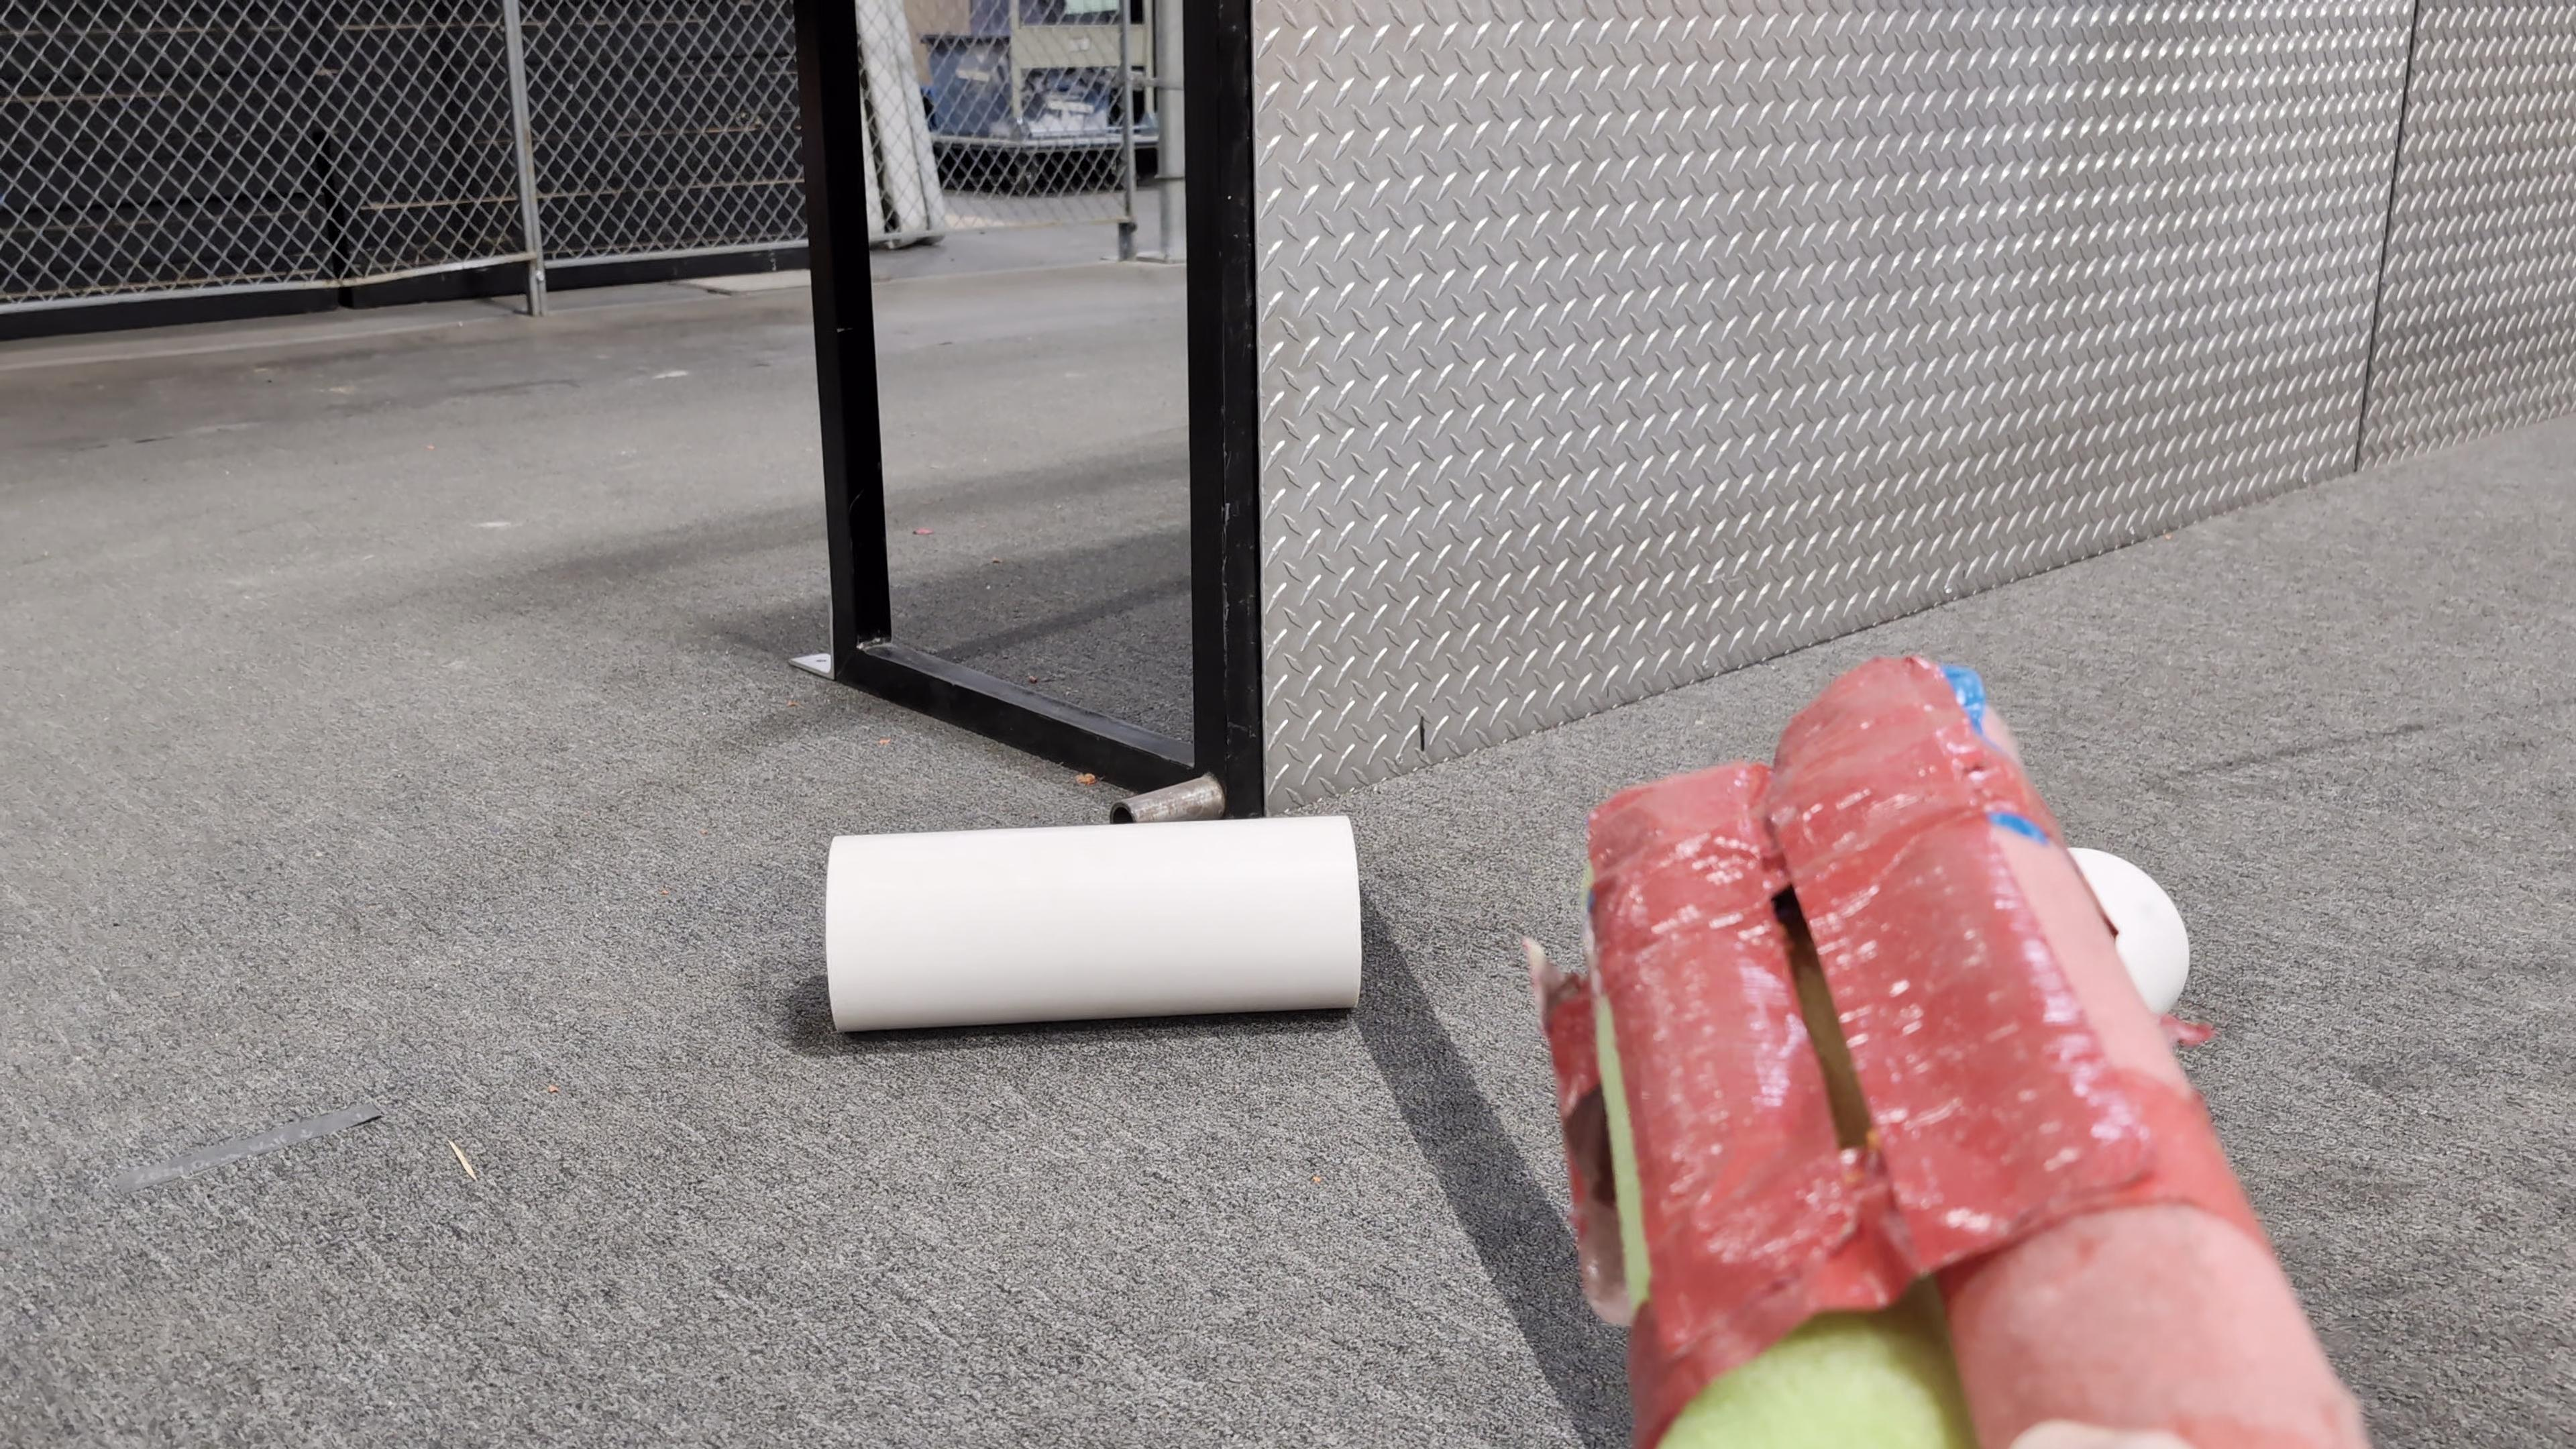coral: (826, 818, 1360, 1035)
